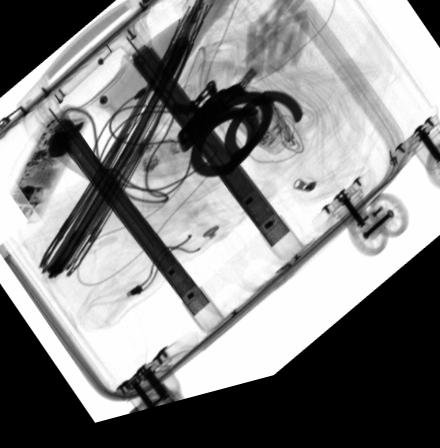HandCuffs: (176, 90, 302, 190)
